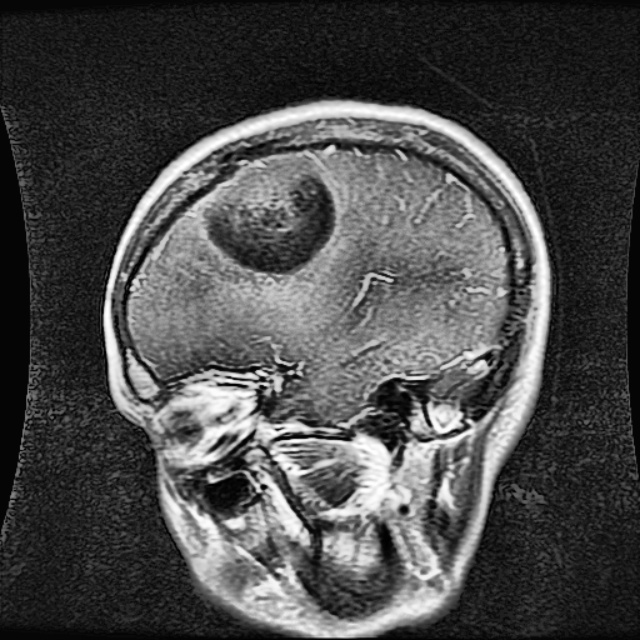Meningioma: (203, 162, 332, 270)
